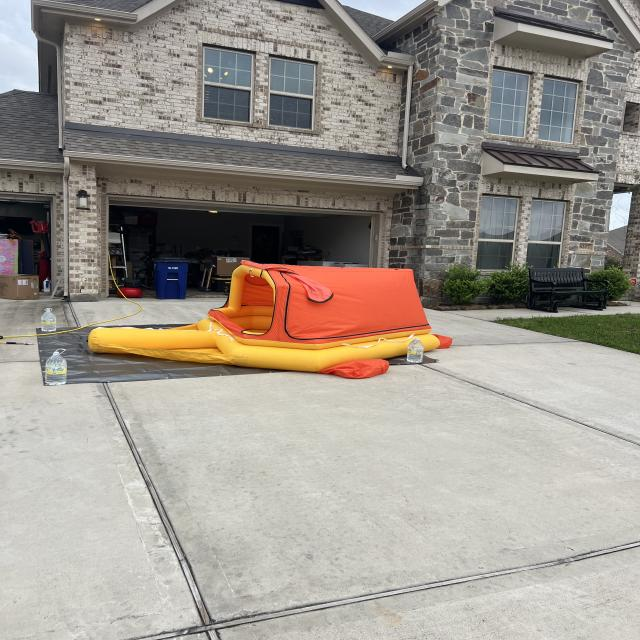Multi-person_life_raft: (87, 261, 453, 379)
